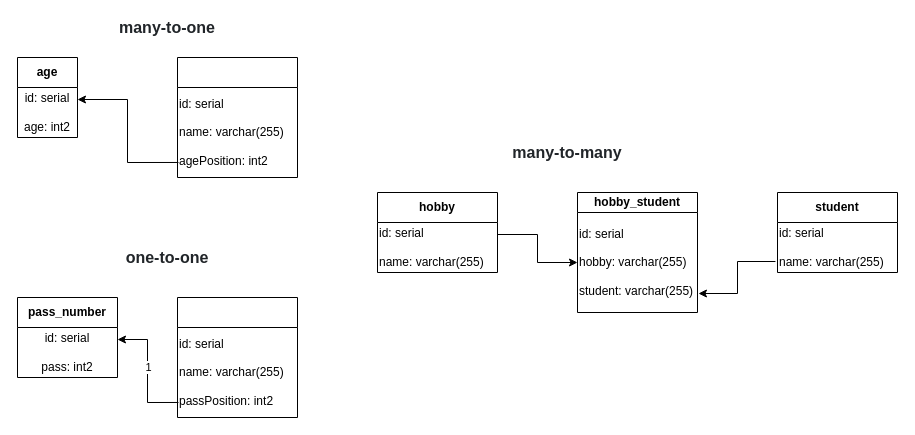
This 915x435 diagram has some shape labels left out. Here are the shapes that lost their labels. From the top down, the box of each, then its label:
(176, 56, 298, 178): person
(176, 296, 298, 418): worker
